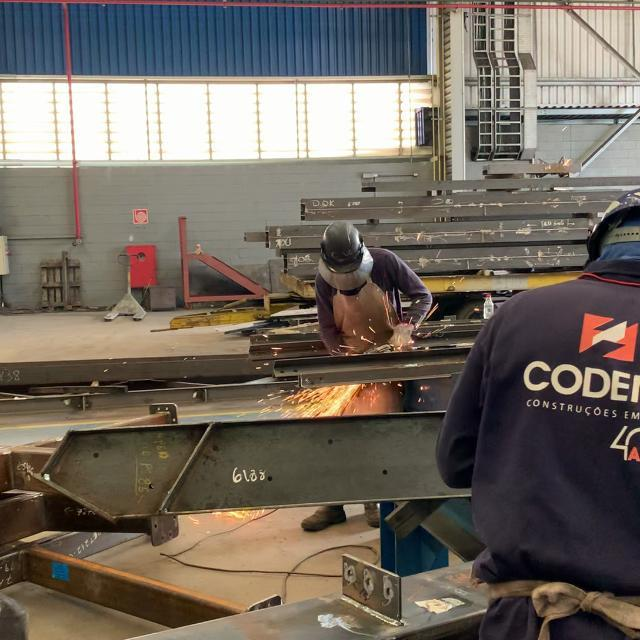eye-glass: (316, 246, 374, 290)
face-shield: (386, 323, 414, 351)
glove: (587, 191, 640, 261), (319, 222, 363, 275)
mask: (434, 188, 640, 633), (315, 220, 432, 349)
